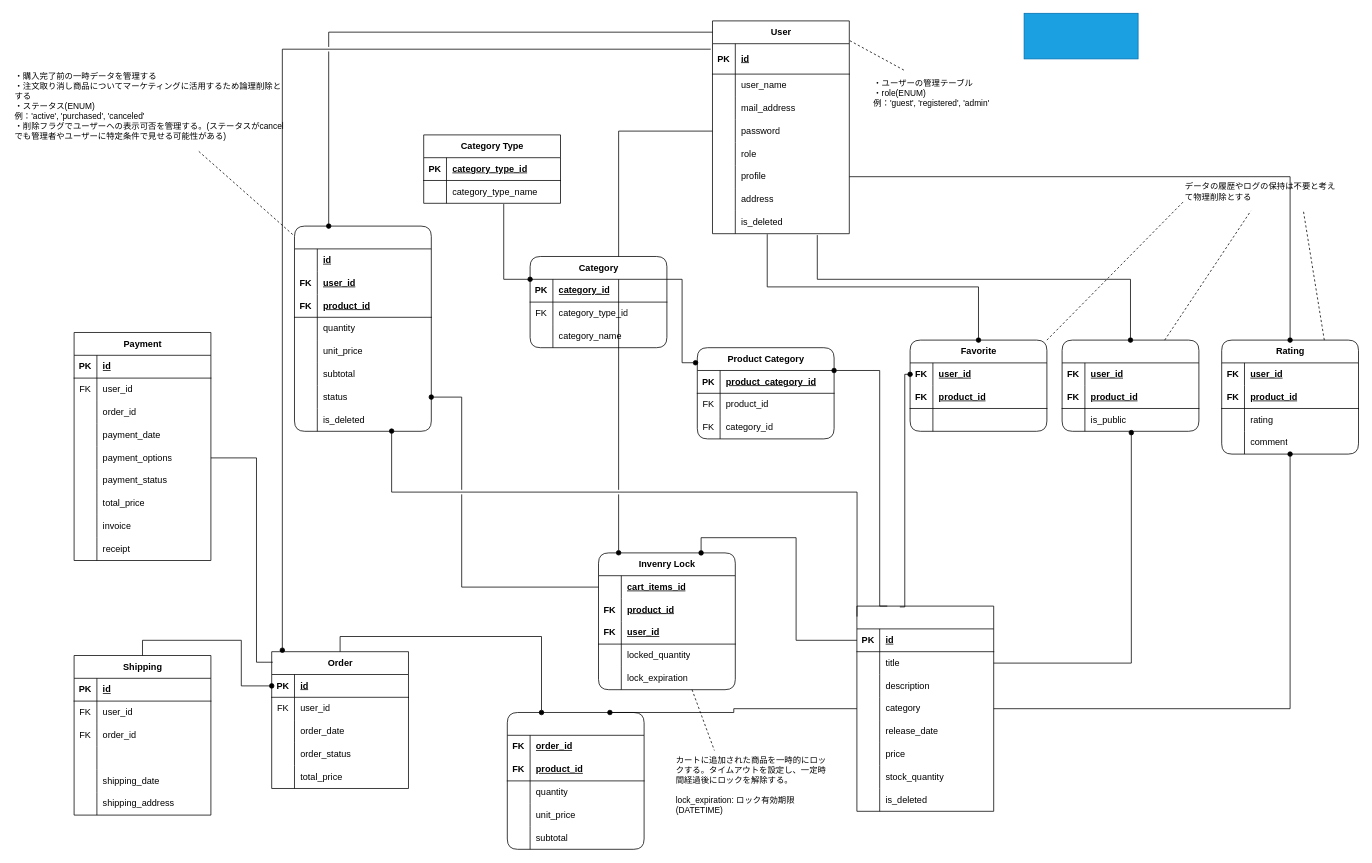
This 1372x863 diagram has some shape labels left out. Here are the shapes that lost their labels. From the top down, the box of each, then its label:
(1023, 13, 1138, 59): Common column created_at updated_at
(294, 225, 431, 431): Cart Items
(1061, 339, 1199, 431): Wish Items
(856, 605, 994, 811): Product
(507, 712, 644, 849): Order Items
